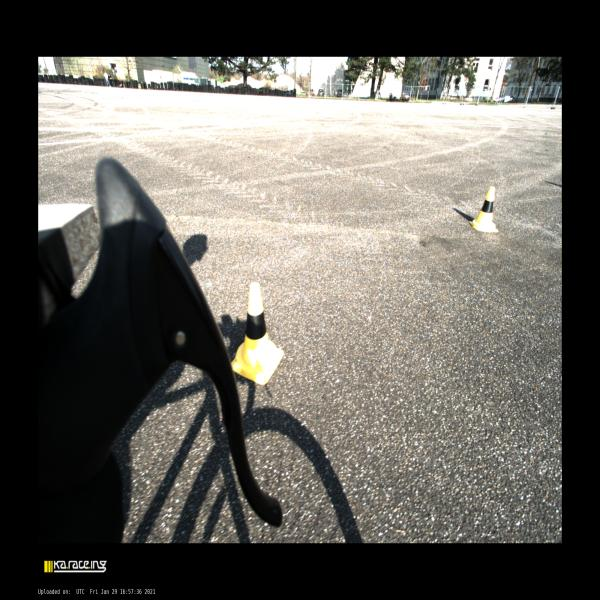yellow_cone: (231, 282, 284, 384), (470, 186, 498, 232)
